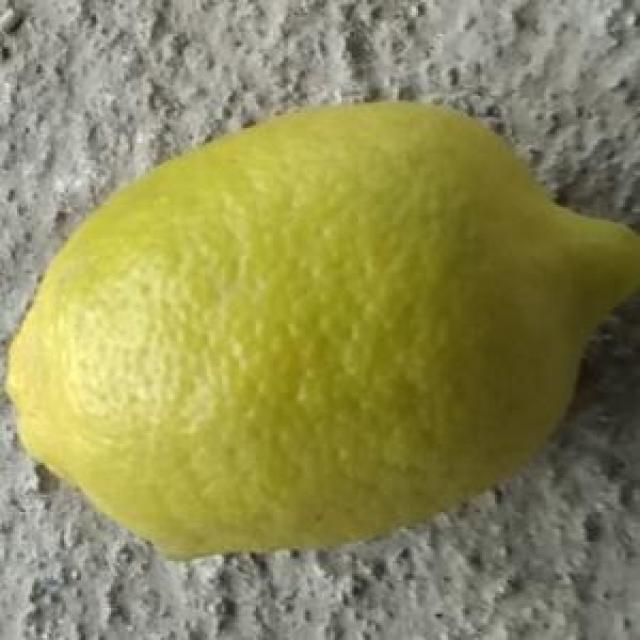lemon: (5, 100, 638, 562)
